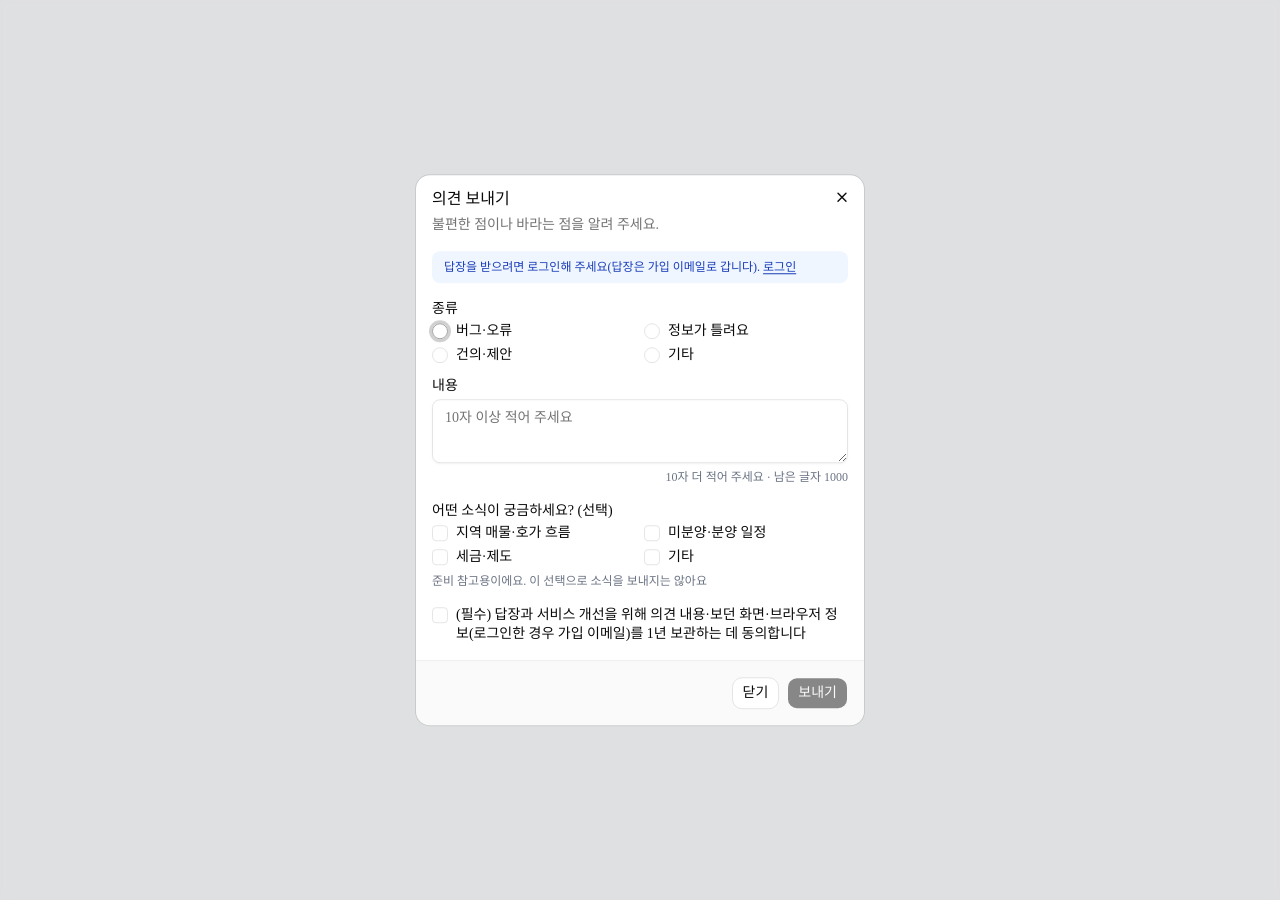
Scenario: OpinionDialog — 열기와 입력 조건 › 남은 글자 수를 보여 준다
Type "여덟글자짜리내용" into the text box labelled "내용".
click(640, 431); type("여덟글자짜리내용")  # box top-left (432, 399), bottom-right (848, 463)
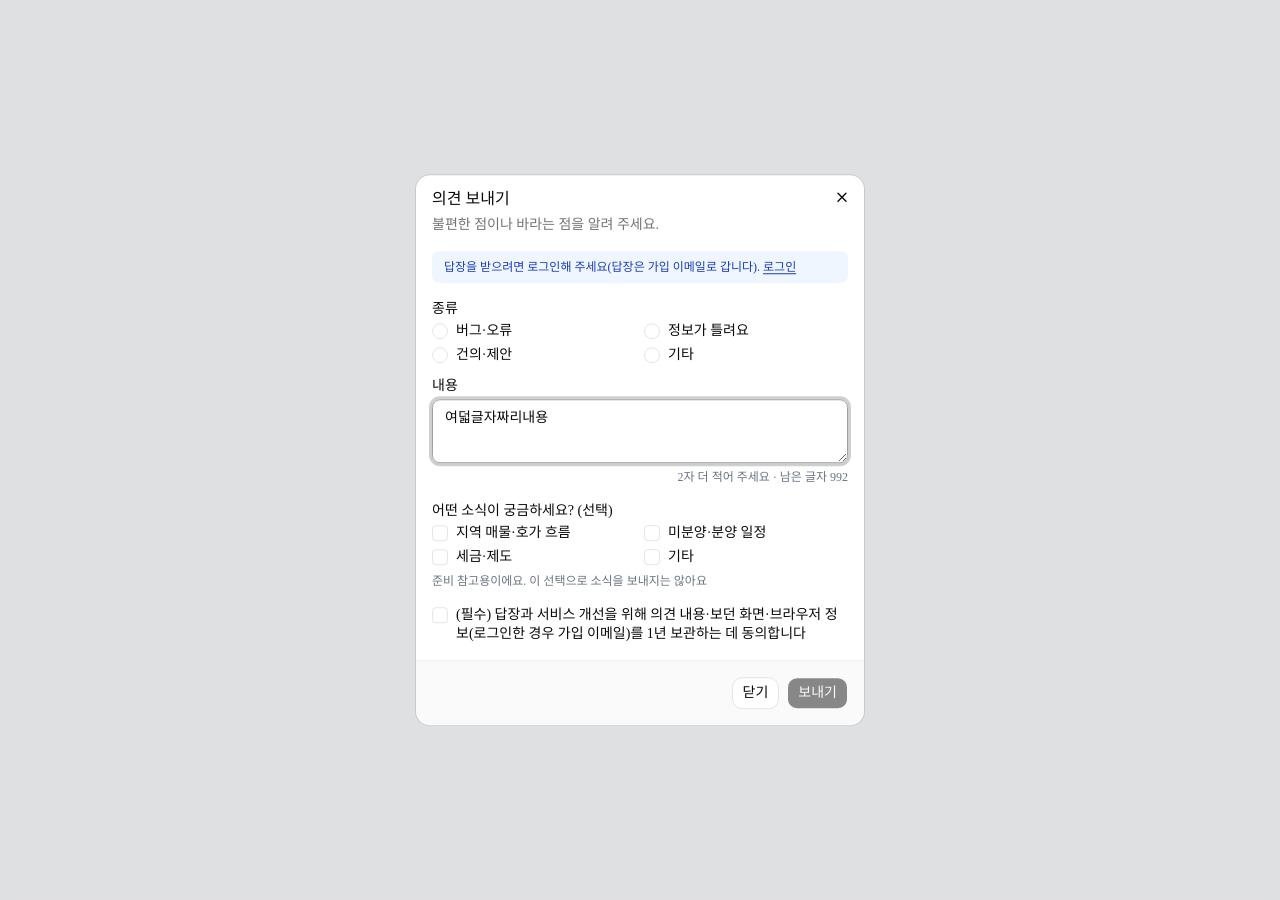
Result: the text "2자 더 적어 주세요 · 남은 글자 992" is shown at top-left (678, 470), bottom-right (848, 484)
